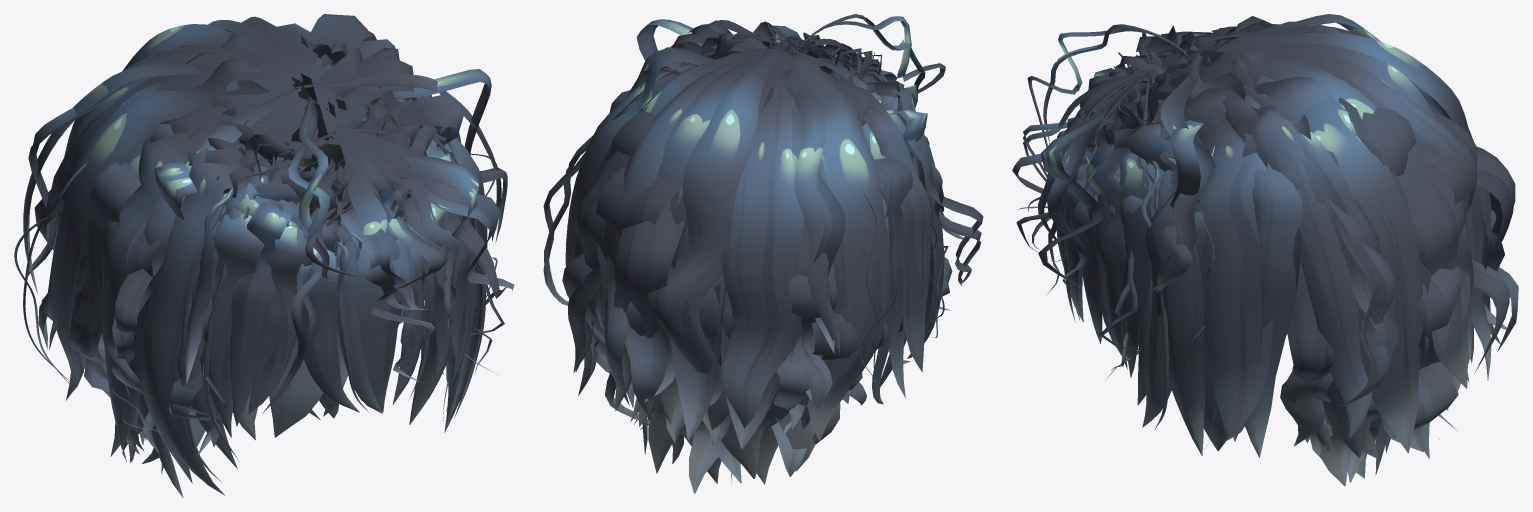
Rendered from vroid_hair_c21.glb.
3 views of the same model, side by side, from view 1: azimuth 30°, elevation 25°; view 2: azimuth 150°, elevation 25°; view 3: azimuth 270°, elevation 25° (orthographic). The views are drawn at different scales.
Parts seen in each view (by area): view 1: part; view 2: part; view 3: part.
Boxes of the visible parts, <box> form: part: <box>14,14,514,497</box>; part: <box>543,14,983,493</box>; part: <box>1012,14,1518,485</box>.
Bounding box in the file's own units: 0.226 × 0.2457 × 0.2619.
Materials: 1 (1 with a texture image).
